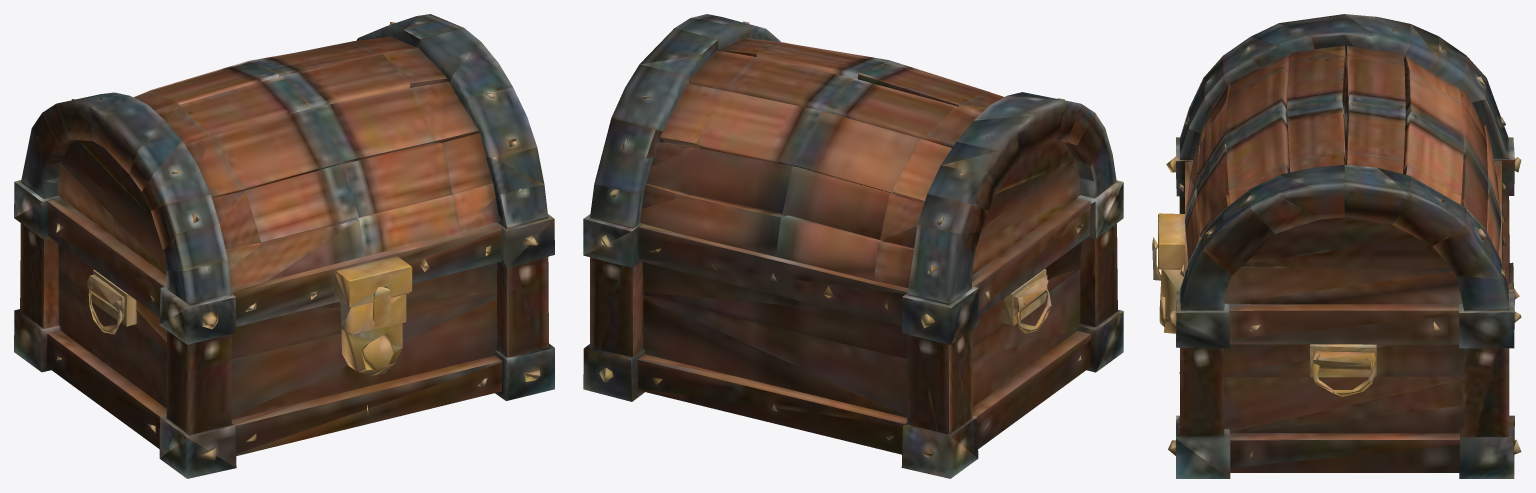
File: chest.lod1.glb
3 views of the same model, side by side, from view 1: azimuth 30°, elevation 25°; view 2: azimuth 150°, elevation 25°; view 3: azimuth 270°, elevation 25° (orthographic). The views are drawn at different scales.
Bounding box in the file's own units: 0.768 × 0.6 × 0.684.
Materials: 1 (1 with a texture image).
